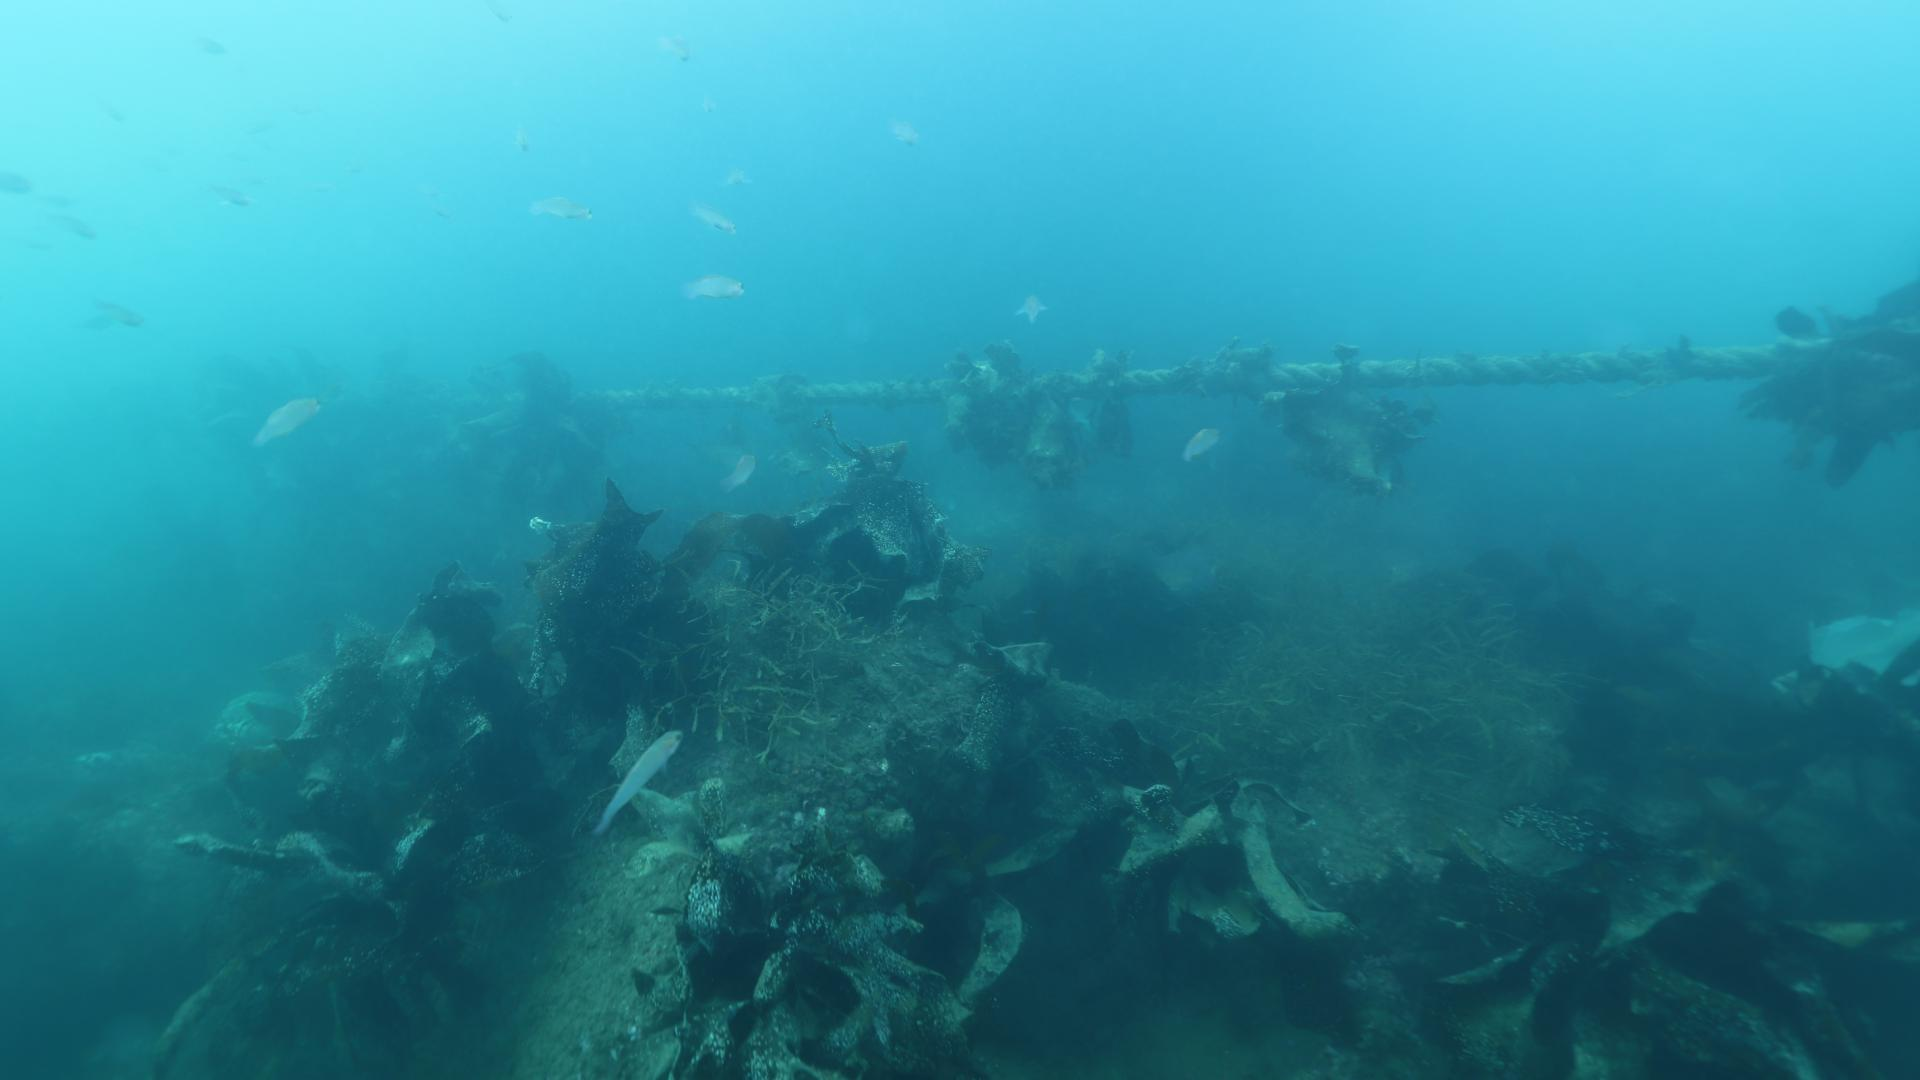rope: (562, 318, 1920, 407)
